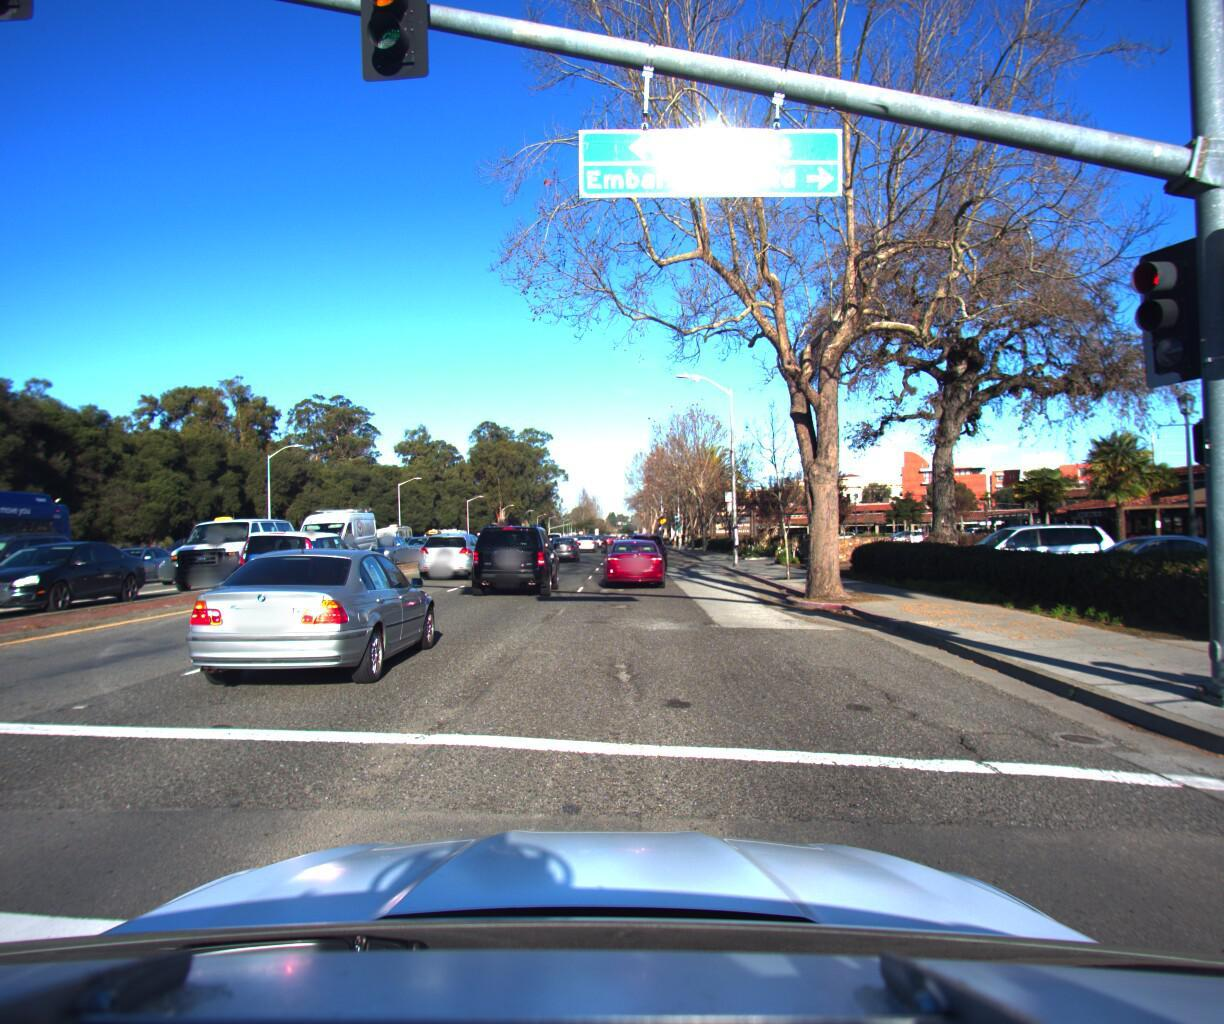bus: (0, 405, 84, 699)
car: (173, 534, 445, 696), (1041, 522, 1224, 600), (0, 531, 165, 614), (227, 522, 376, 605), (156, 507, 305, 586), (946, 510, 1120, 575), (0, 523, 103, 609), (1154, 501, 1224, 619), (465, 508, 559, 592), (285, 493, 384, 568), (76, 534, 193, 580), (150, 531, 259, 577), (418, 521, 493, 573), (602, 528, 669, 582), (351, 525, 419, 558), (624, 522, 665, 562), (397, 526, 450, 552), (544, 526, 580, 554), (575, 525, 598, 543), (545, 523, 566, 541)
